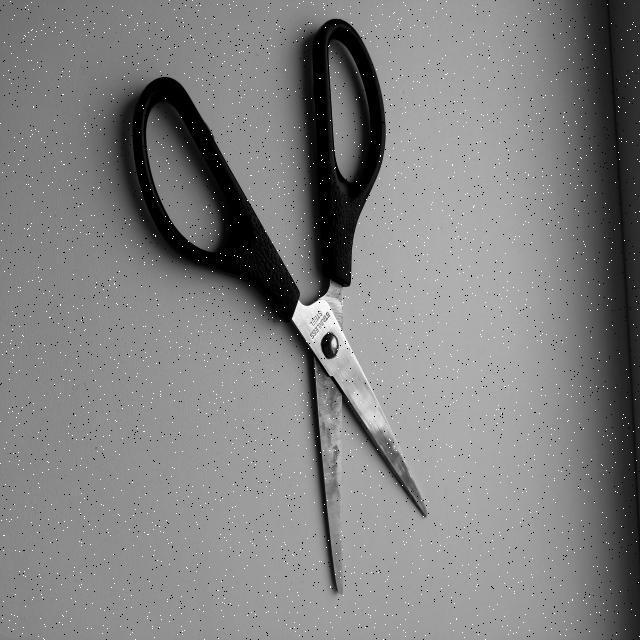scissors: (126, 14, 432, 603)
